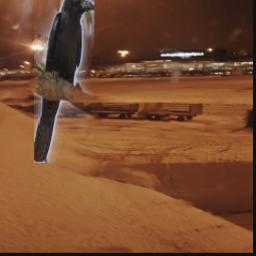Crow: (34, 0, 94, 164)
